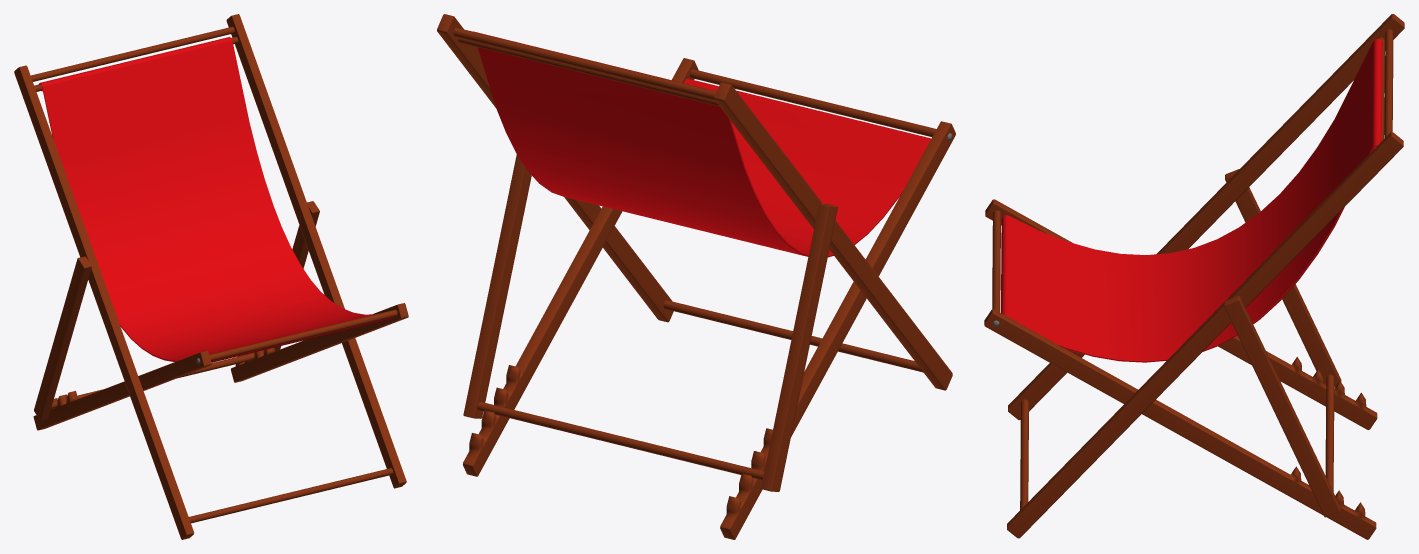
File: Chair_Enter.FBX
3 renders of one model, left to right at view 1: azimuth 30°, elevation 25°; view 2: azimuth 150°, elevation 25°; view 3: azimuth 270°, elevation 25°, orthographic. The views are drawn at different scales.
Visible parts, largest first — view 1: BeachChair; view 2: BeachChair; view 3: BeachChair.
Part boxes in pixels (left/top/right/bottom): BeachChair: left=14, top=14, right=408, bottom=539; BeachChair: left=437, top=14, right=955, bottom=539; BeachChair: left=984, top=14, right=1404, bottom=539.
Size of the model in its own units: 43.93 by 63.6 by 59.36.
